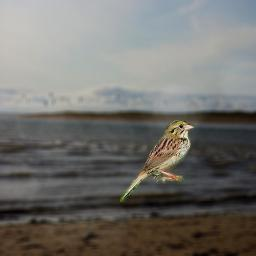Sparrow: (120, 118, 195, 202)
